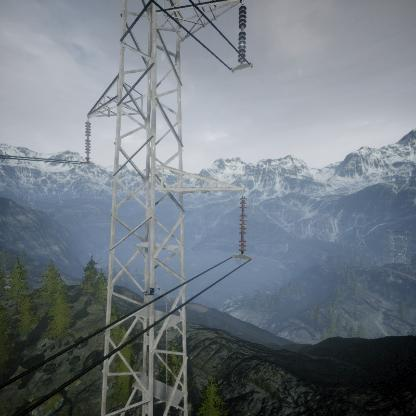insulator: (236, 4, 249, 65), (236, 196, 249, 255), (81, 119, 94, 162)
